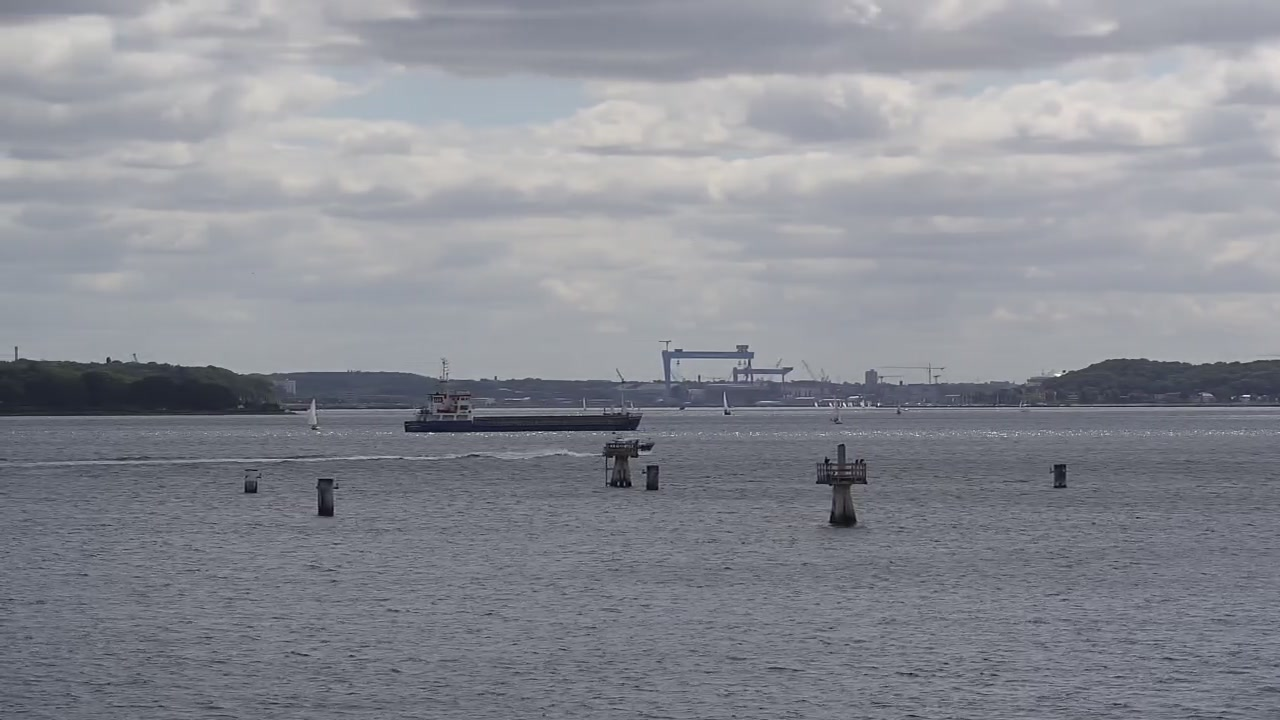sea: (402, 354, 643, 434), (604, 433, 656, 457), (306, 396, 319, 430), (829, 395, 841, 425), (722, 390, 732, 415)
